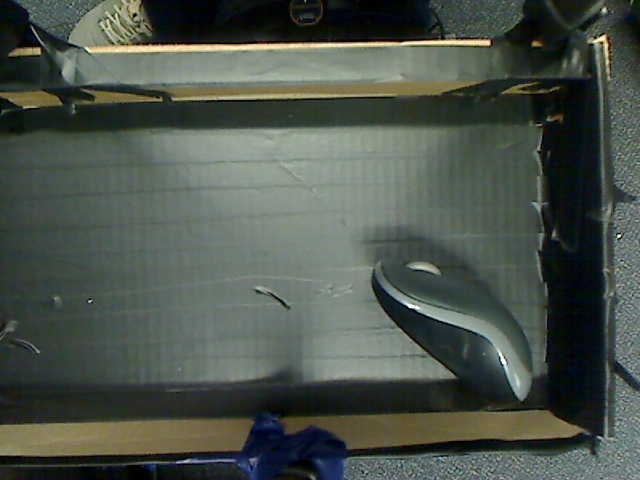mouse: (361, 234, 548, 417)
